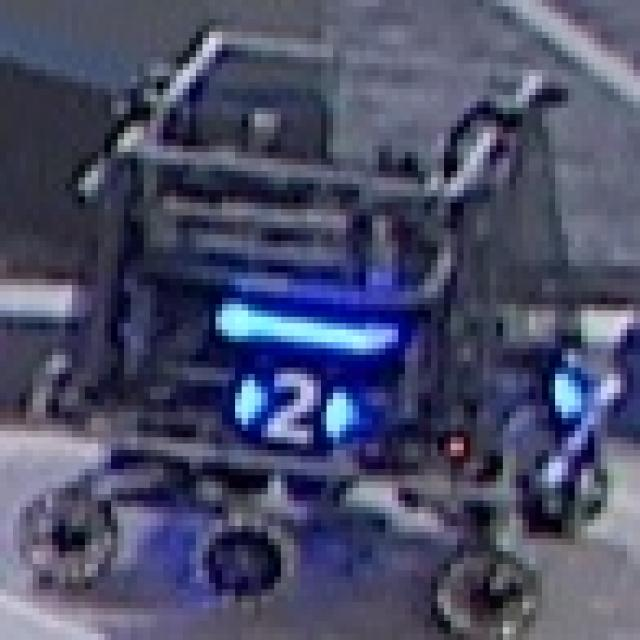B2: (209, 342, 366, 450)
